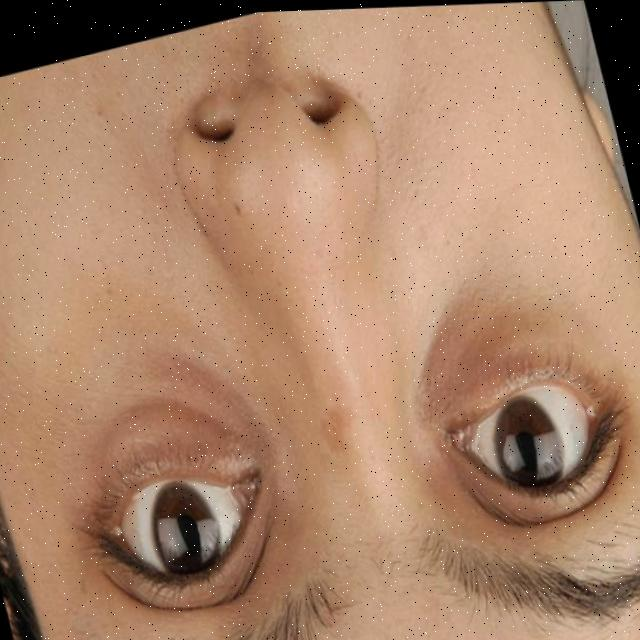puffy_eyes: (420, 264, 599, 431), (97, 363, 268, 481), (106, 403, 231, 470)
